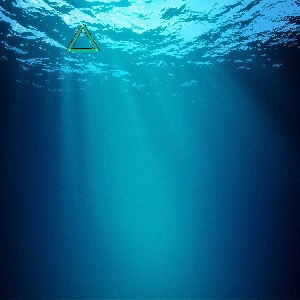triangle: (66, 23, 100, 53)
